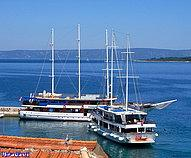Ship: (15, 86, 180, 122), (89, 104, 163, 149)
